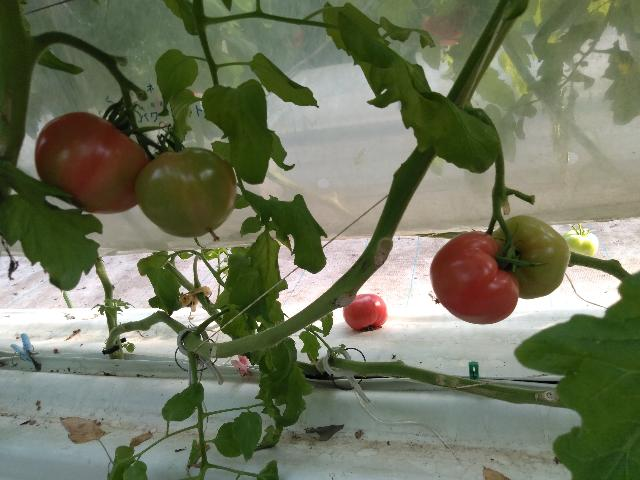b_fully_ripened: (429, 231, 519, 325), (343, 294, 389, 331)
b_green: (489, 216, 571, 300), (562, 229, 599, 258)
b_half_ripened: (34, 112, 151, 215), (133, 146, 238, 239)
